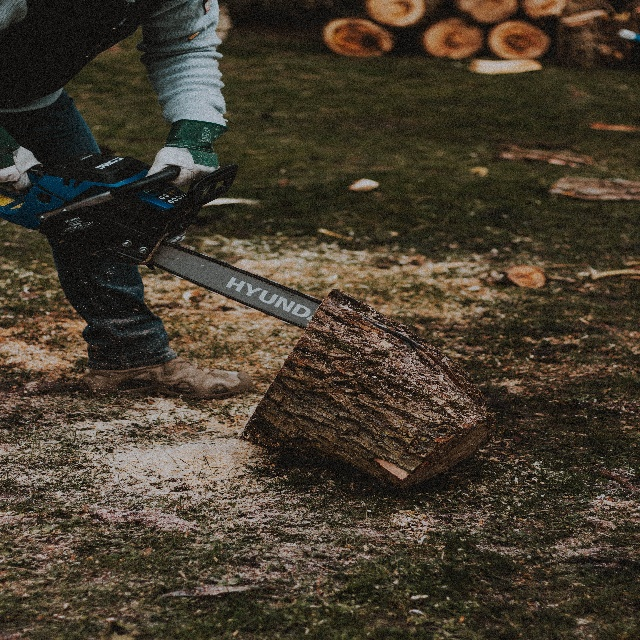Guantes: (146, 130, 220, 190)
